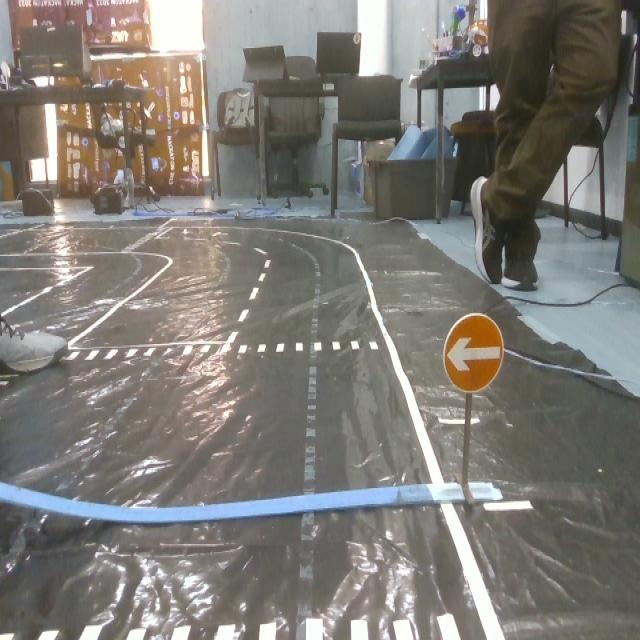forward: (441, 309, 512, 396)
